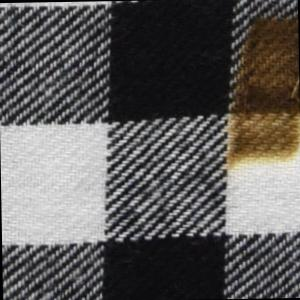Oil Stain: (218, 12, 300, 174)
